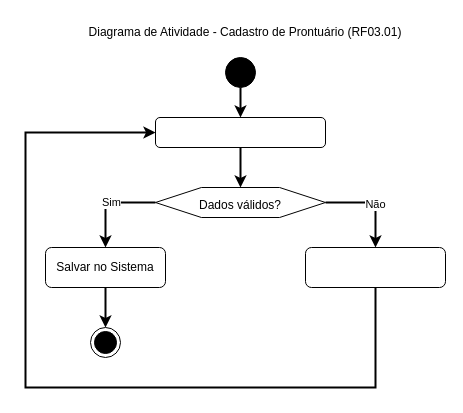
Image size: 463x413. Some labels were removed from this diagram. The shapes that lost their labels are listed below. From the top down, each one's box as (x1, y1, x2, y2) in pixels, then its label:
(154, 116, 326, 148): Inserir dados do Prontuário
(304, 246, 446, 288): Exibir mensagem de erro
